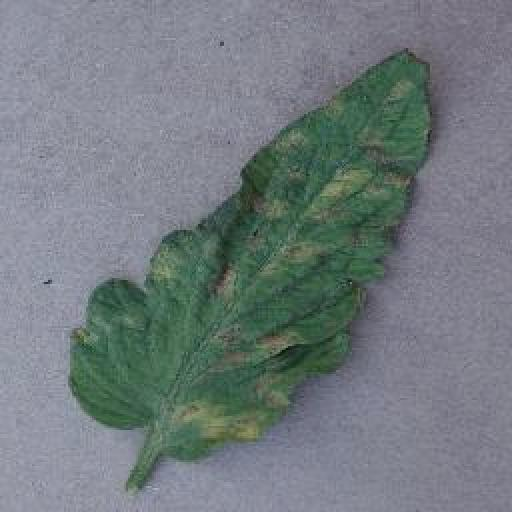disease_tomato: (72, 48, 434, 458)
